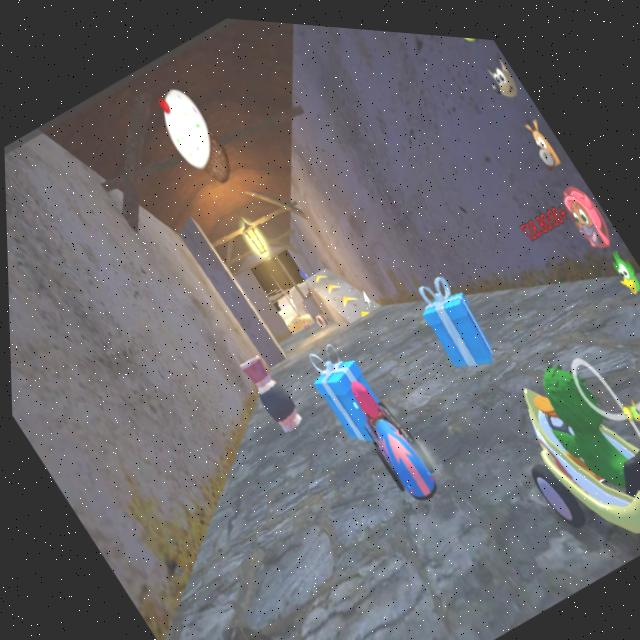bonus: (401, 258, 511, 386)
enemy_kart: (466, 298, 640, 543)
obstacle: (227, 336, 326, 456)
power_up: (349, 290, 378, 323), (330, 280, 359, 308), (316, 268, 341, 294)
